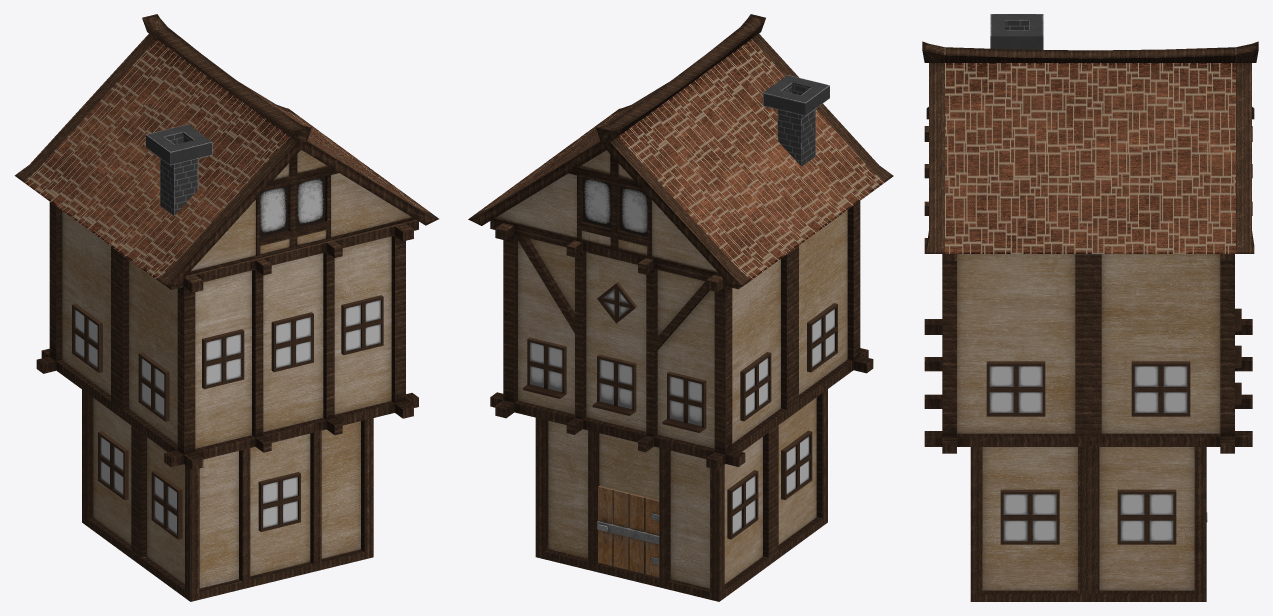
Rendered from House_8.fbx.
3 renders of one model, left to right at view 1: azimuth 30°, elevation 25°; view 2: azimuth 150°, elevation 25°; view 3: azimuth 270°, elevation 25°, orthographic. The views are drawn at different scales.
Visible parts, largest first — view 1: block4, roof3, block3, Chimney2, window26, window28, window27, window25, window20, window18, window19, window17; view 2: block4, roof3, block3, door3, Chimney2, window15, window14, window16, window17, window19, window20, window18 (+1 smaller); view 3: roof3, block4, block3, window22, window21, window24, window23, Chimney2.
Part boxes in pixels (x1,y1,x2,y2): block4: [36, 202, 418, 469]; roof3: [14, 14, 438, 285]; block3: [82, 389, 373, 601]; Chimney2: [146, 124, 212, 215]; window26: [271, 312, 313, 372]; window28: [202, 329, 244, 389]; window27: [341, 295, 383, 354]; window25: [258, 472, 300, 531]; window20: [151, 470, 182, 539]; window18: [138, 352, 169, 421]; window19: [98, 431, 128, 500]; window17: [72, 304, 102, 372]; block4: [490, 201, 873, 469]; roof3: [468, 14, 893, 286]; block3: [535, 389, 827, 601]; door3: [597, 486, 659, 577]; Chimney2: [763, 75, 829, 166]; window15: [592, 354, 636, 415]; window14: [662, 371, 706, 432]; window16: [523, 337, 566, 398]; window17: [740, 352, 771, 421]; window19: [727, 470, 758, 539]; window20: [781, 430, 812, 499]; window18: [807, 303, 837, 372]; roof3: [922, 41, 1258, 253]; block4: [924, 126, 1252, 453]; block3: [970, 447, 1206, 601]; window22: [1131, 361, 1190, 416]; window21: [986, 361, 1045, 416]; window24: [1000, 489, 1059, 544]; window23: [1117, 489, 1176, 544]; Chimney2: [990, 14, 1043, 49].
Bounding box in the file's own units: 10.08 × 16.39 × 9.84.
